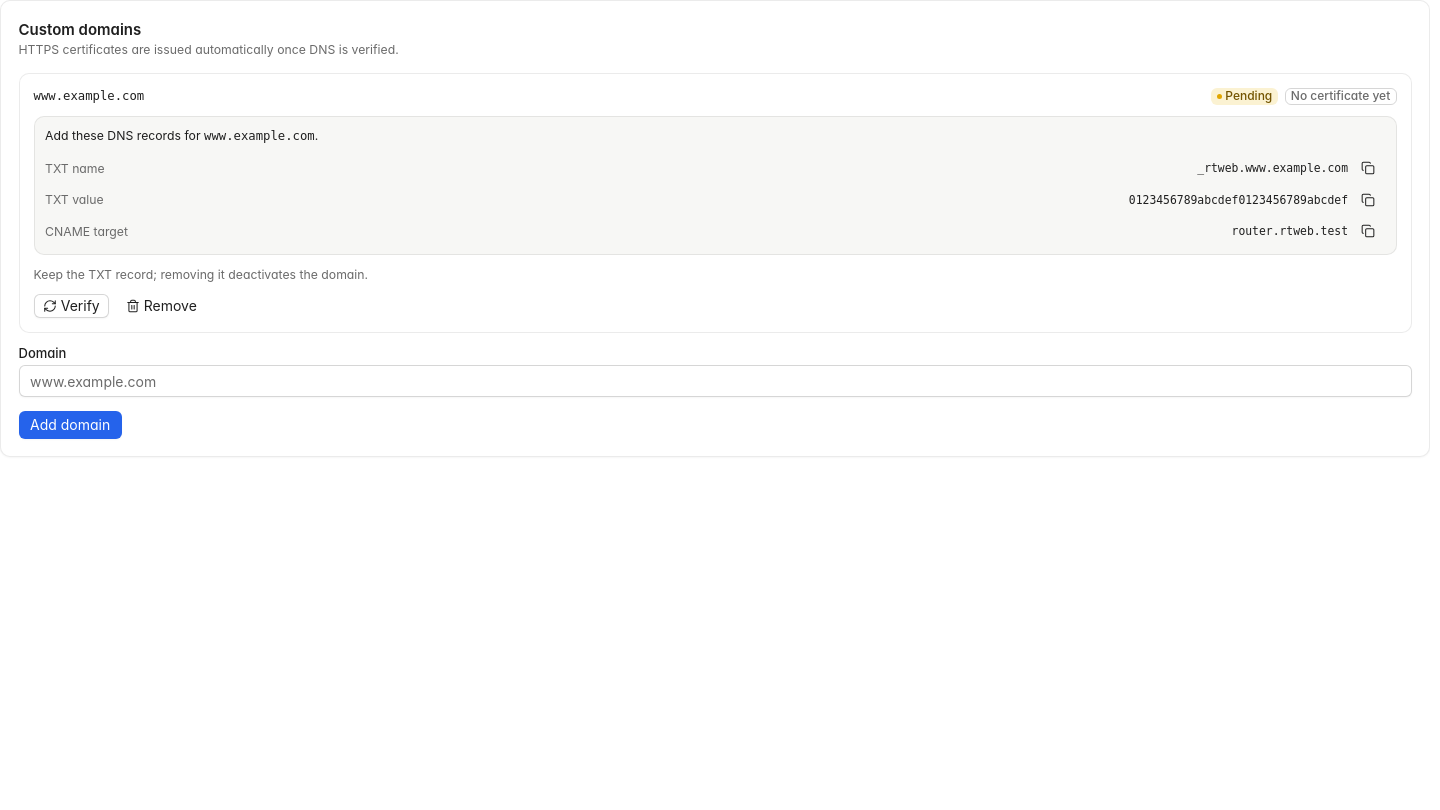
Test: DomainsPanel › a verify that finds no matching TXT shows the expected record
Step 1. Click the button with aria-label "Verify www.example.com" → (72, 306), box [34, 294, 110, 318]
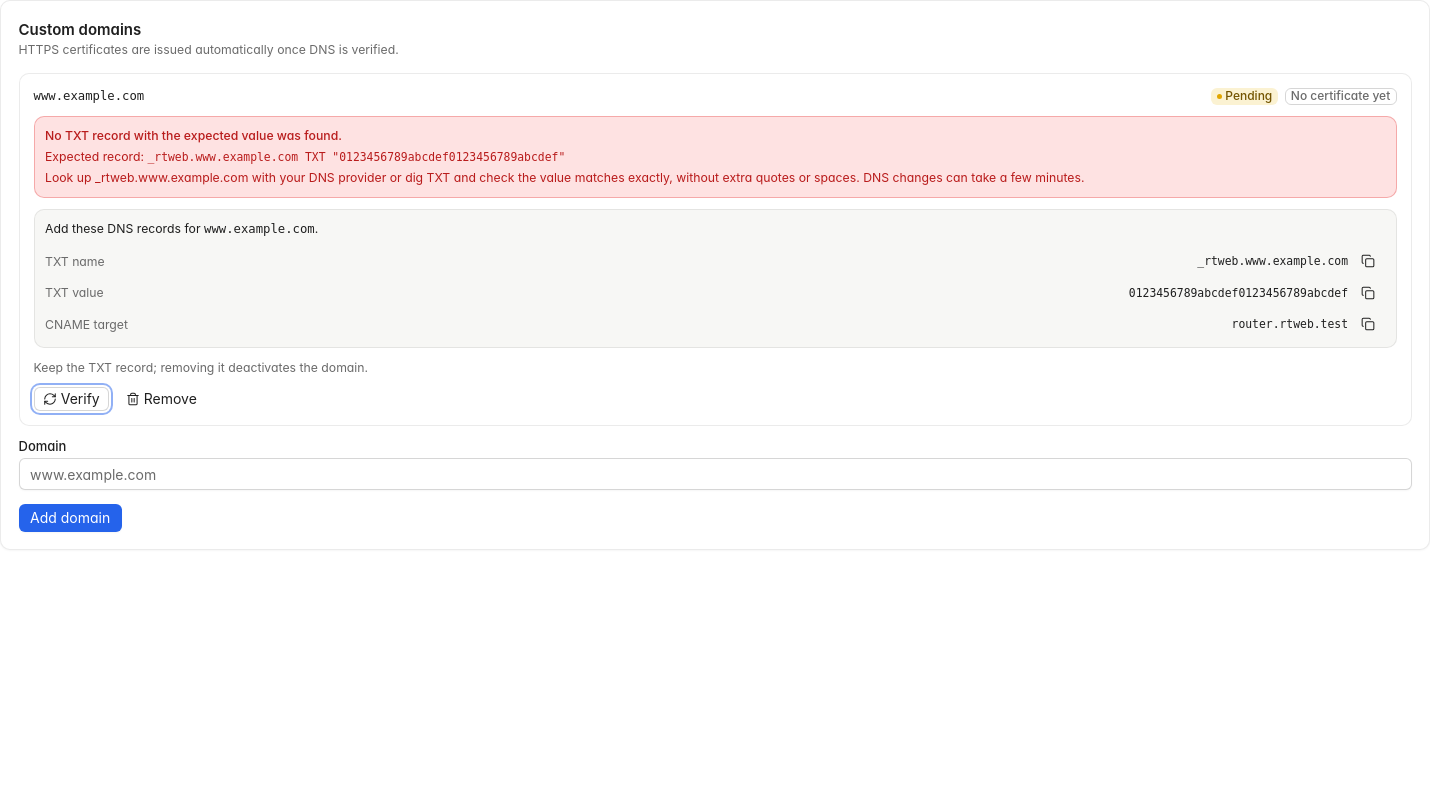
Check: the message shows "No TXT record with the expected value was found.", box [45, 128, 342, 143]
